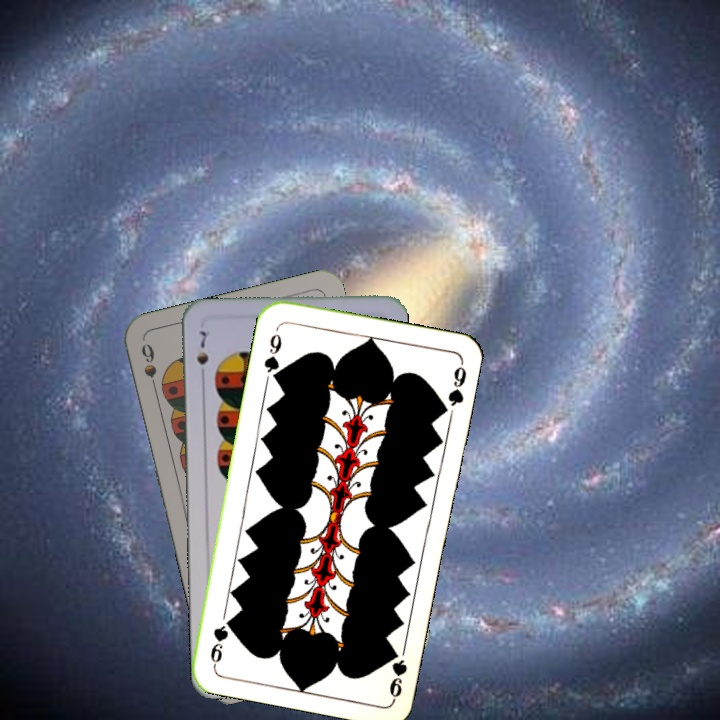G9: (259, 323, 284, 384), (385, 645, 410, 702)
S7: (192, 326, 211, 383)
S9: (137, 339, 161, 397)
